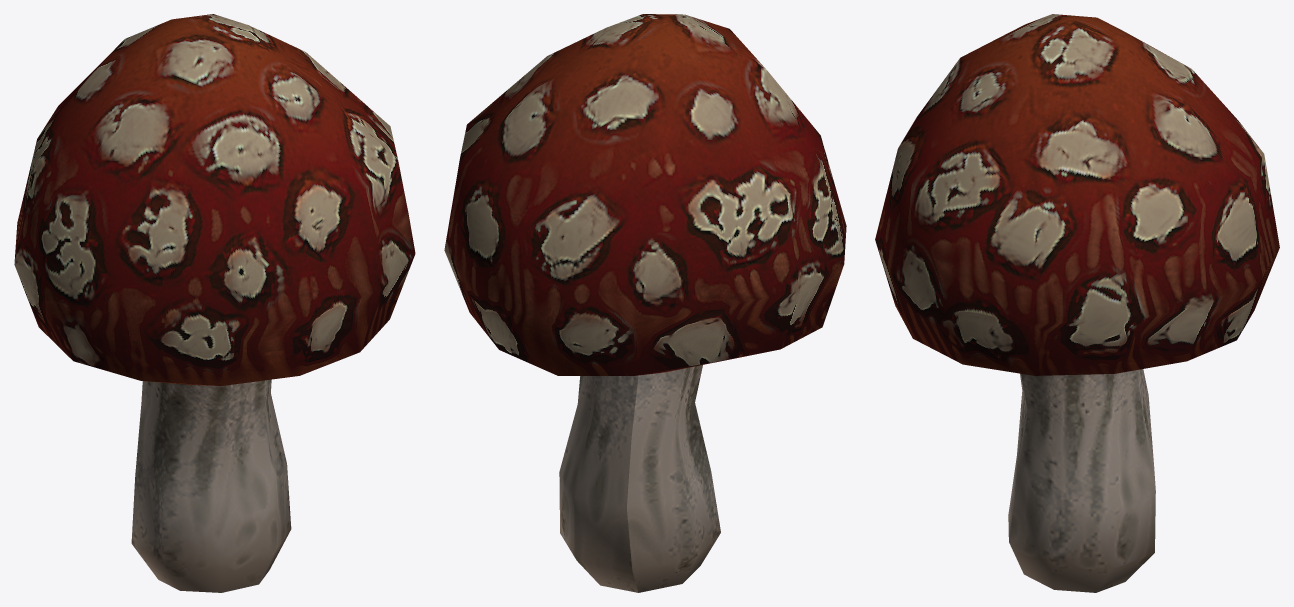
The model's file is mushroom_1_1.fbx.
3 views of the same model, side by side, from view 1: azimuth 30°, elevation 25°; view 2: azimuth 150°, elevation 25°; view 3: azimuth 270°, elevation 25° (orthographic). The views are drawn at different scales.
Visible parts, largest first — view 1: Mushroom_1_1; view 2: Mushroom_1_1; view 3: Mushroom_1_1.
Part boxes in pixels (left/top/right/bottom): Mushroom_1_1: left=14, top=14, right=415, bottom=592; Mushroom_1_1: left=444, top=14, right=846, bottom=592; Mushroom_1_1: left=875, top=14, right=1279, bottom=592.
Size of the model in its own units: 0.332 by 0.5043 by 0.338.
